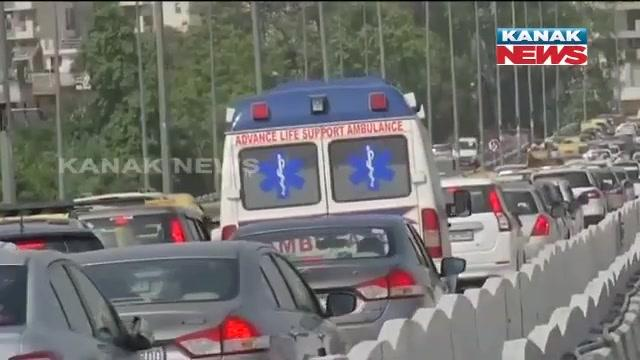AMBULANCE: (206, 69, 440, 210)
